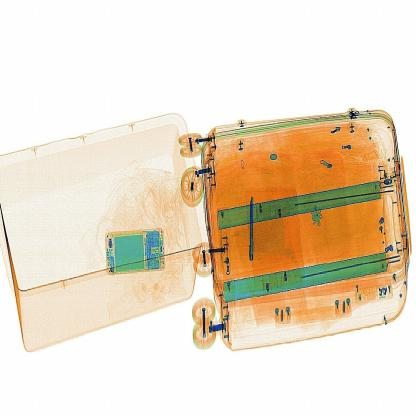pliers: (244, 182, 278, 265)
